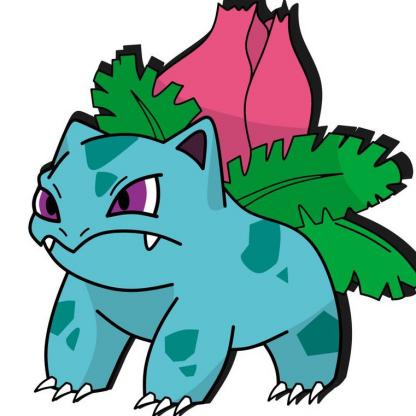Ivysaur: (17, 1, 416, 416)
